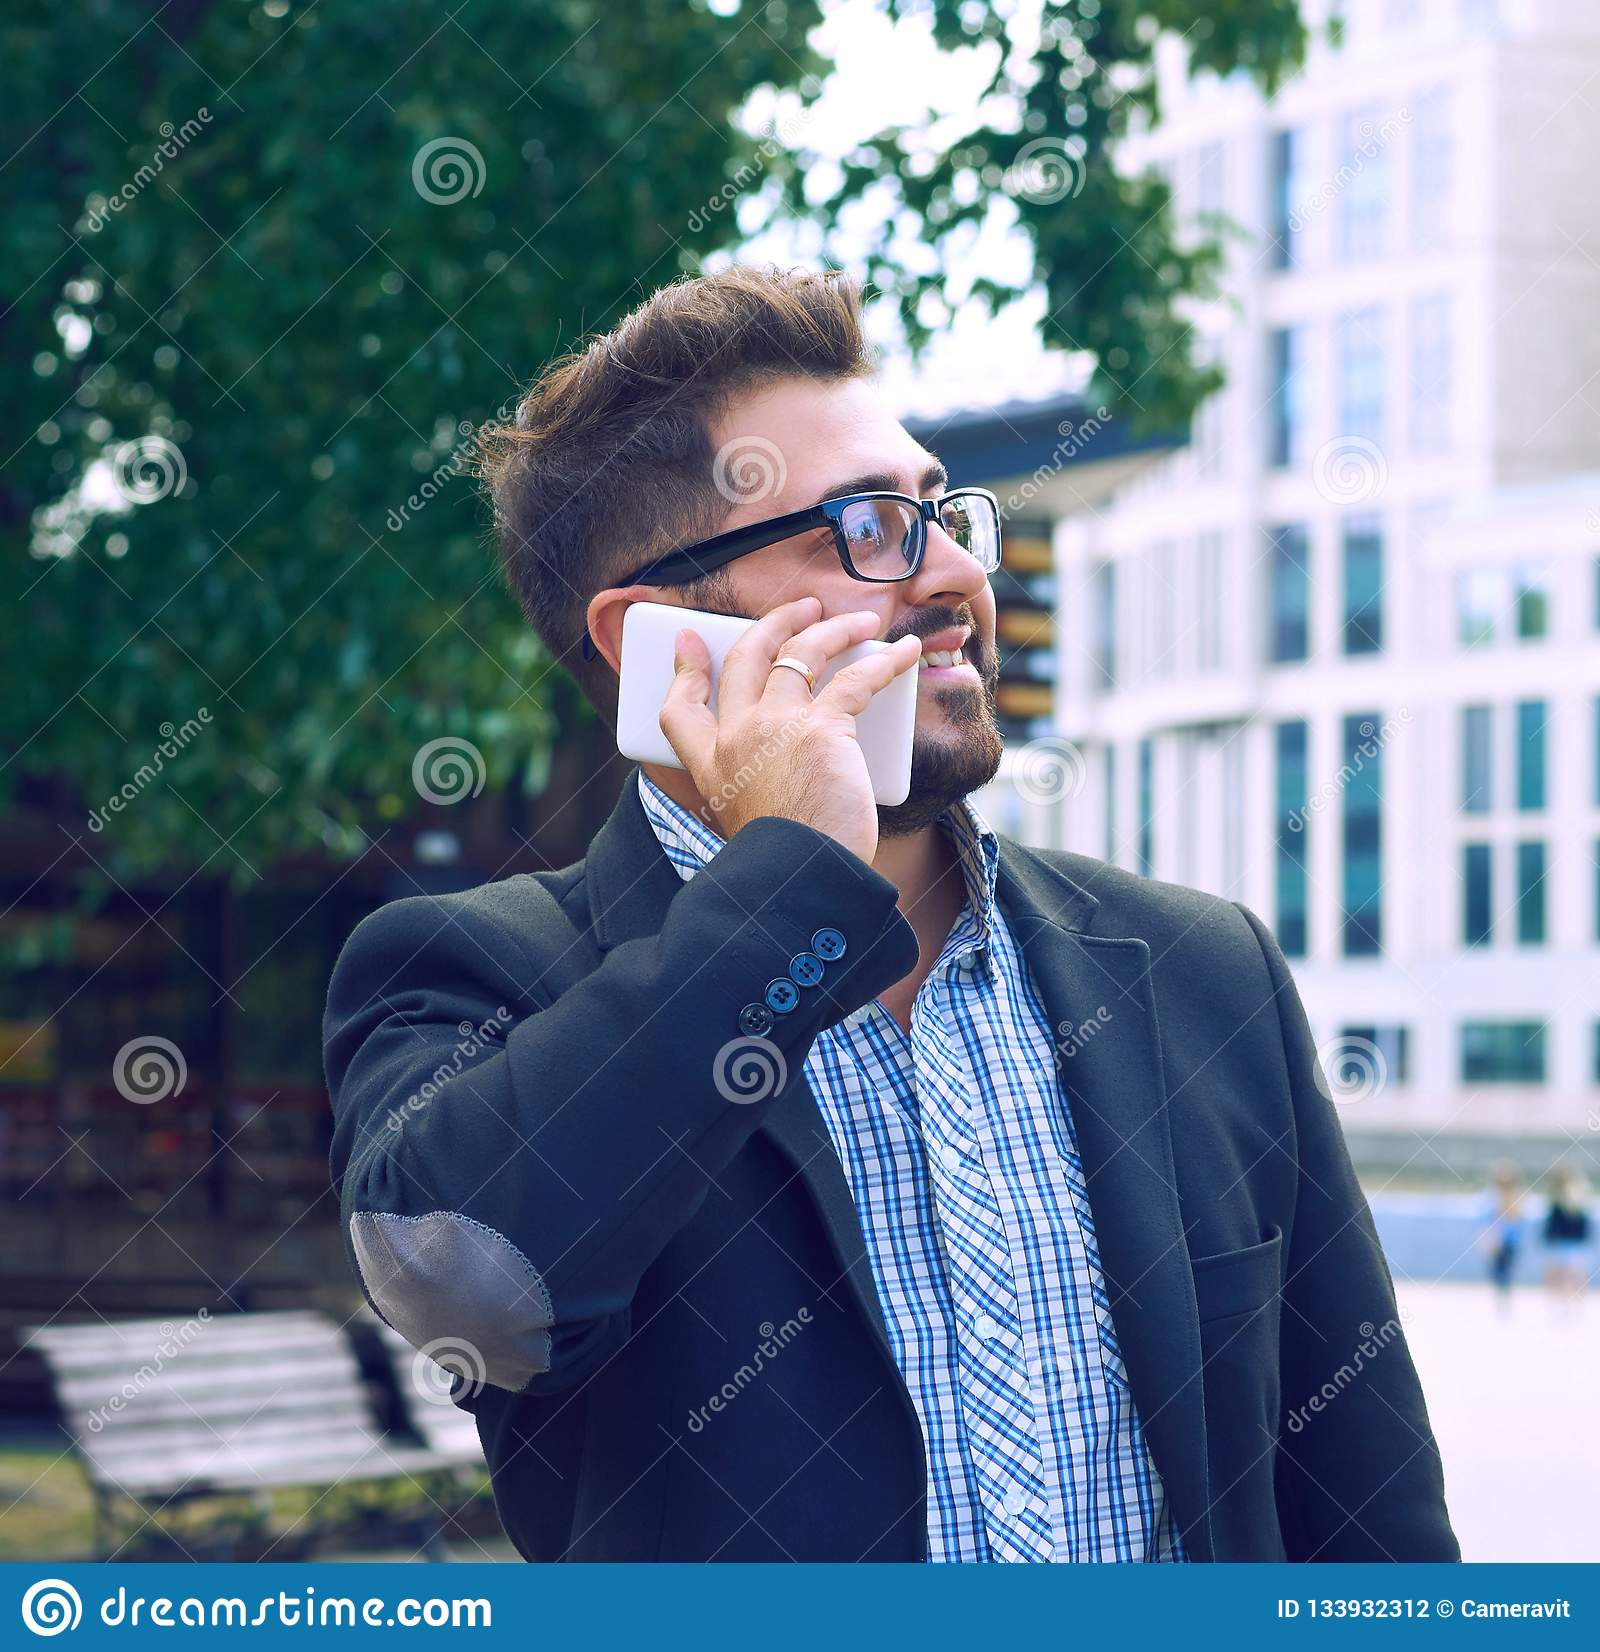phone: (621, 594, 922, 814)
talk: (613, 441, 1006, 878)
